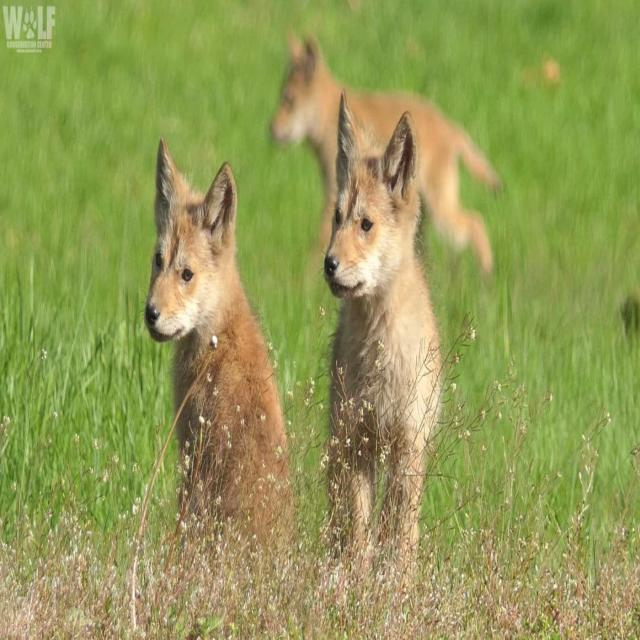coyote: (144, 139, 291, 536), (323, 91, 441, 544), (271, 36, 499, 270)
